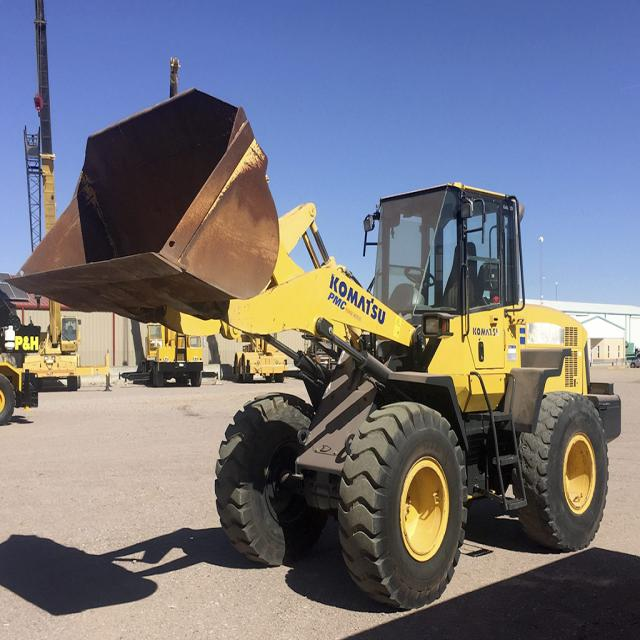buldozerpayloadergrader: (14, 86, 622, 607)
